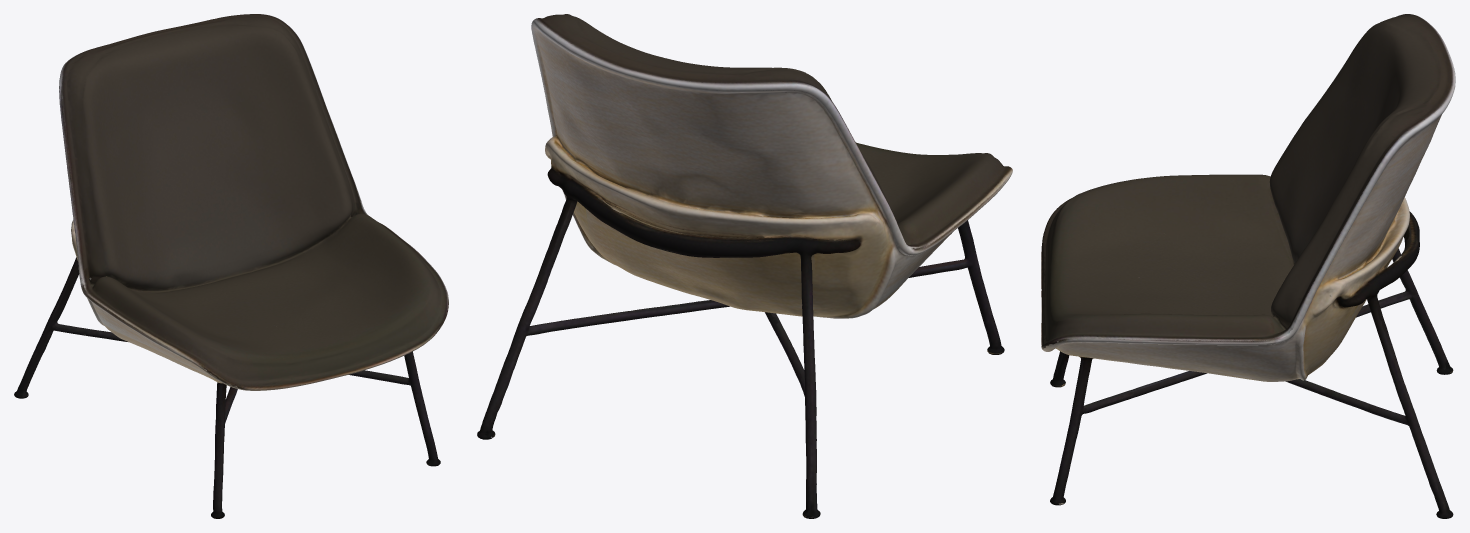
Rendered from product-mid-century-modern-vesper-leather-lounge-chair-slate-leather-walnut-03.glb.
3 renders of one model, left to right at view 1: azimuth 30°, elevation 25°; view 2: azimuth 150°, elevation 25°; view 3: azimuth 270°, elevation 25°, orthographic. The views are drawn at different scales.
Parts seen in each view (by area): view 1: geometry_0; view 2: geometry_0; view 3: geometry_0.
Boxes of the visible parts, x1,y1,x2,y2 form: geometry_0: [14, 14, 448, 518]; geometry_0: [477, 14, 1012, 518]; geometry_0: [1041, 14, 1455, 518].
Size of the model in its own units: 1.82 by 1.97 by 1.97.
Materials: 1 (1 with a texture image).
